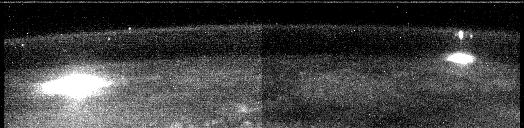positive: (451, 30, 474, 42)
